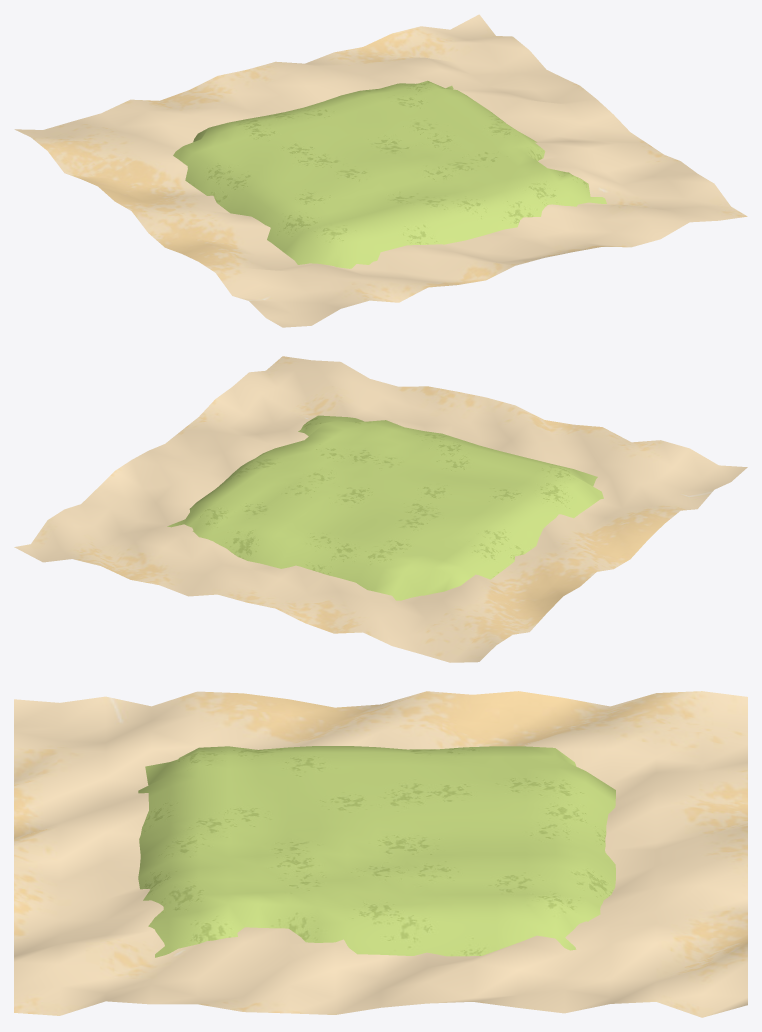
File: ground_modeling (2).fbx
3 renders of one model, top to bottom at view 1: azimuth 30°, elevation 25°; view 2: azimuth 150°, elevation 25°; view 3: azimuth 270°, elevation 25°, orthographic. The views are drawn at different scales.
Visible parts, largest first — view 1: ground_sand, ground_grass; view 2: ground_sand, ground_grass; view 3: ground_sand, ground_grass.
Boxes of the visible parts, <box> form: ground_sand: <box>14,14,747,327</box>; ground_grass: <box>173,80,606,268</box>; ground_sand: <box>14,356,747,662</box>; ground_grass: <box>167,415,603,600</box>; ground_sand: <box>14,691,747,1017</box>; ground_grass: <box>138,746,615,957</box>.
Bounding box in the file's own units: 6652 × 523 × 6652.
Materials: 1 (1 with a texture image).
